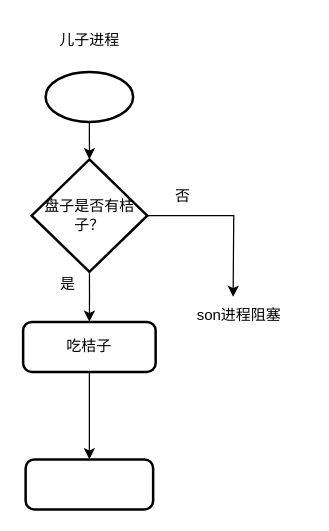
This 329x531 diagram has some shape labels left out. The centre of each missing label's shape, as x and y in pixels:
唤醒mother进程: (89,484)
开始: (89,96)
